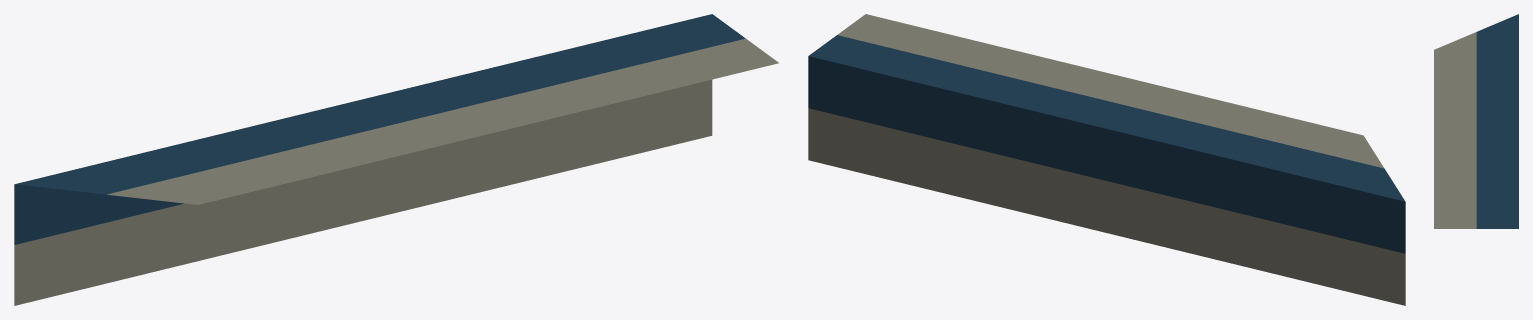
File: swimming pool edge4.FBX
3 renders of one model, left to right at view 1: azimuth 30°, elevation 25°; view 2: azimuth 150°, elevation 25°; view 3: azimuth 270°, elevation 25°, orthographic. The views are drawn at different scales.
Visible parts, largest first — view 1: swimming pool edge4; view 2: swimming pool edge4; view 3: swimming pool edge4.
Part boxes in pixels (x1=…): swimming pool edge4: x1=14, y1=14, x2=778, y2=305; swimming pool edge4: x1=808, y1=14, x2=1405, y2=305; swimming pool edge4: x1=1434, y1=14, x2=1518, y2=228.
Bounding box in the file's own units: 24 × 4 × 4.
